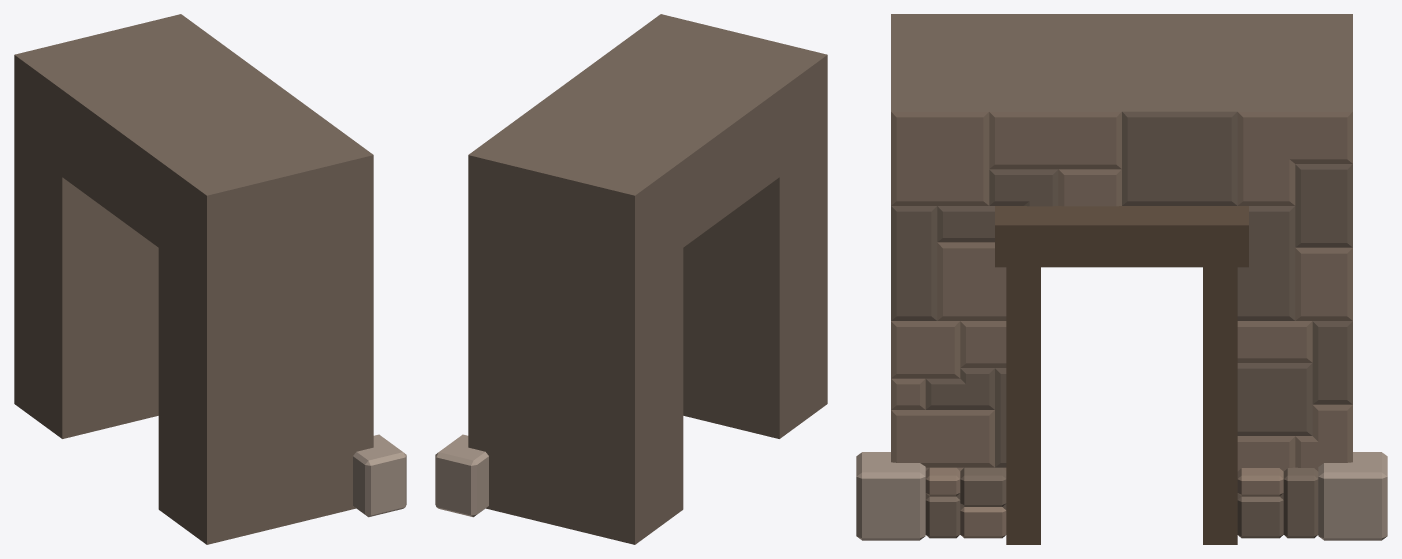
File: Stone_Doorway_Wide_Tall_1.obj
The picture shows the model from 3 angles, left to right: view 1: azimuth 30°, elevation 25°; view 2: azimuth 150°, elevation 25°; view 3: azimuth 270°, elevation 25°; orthographic projection. The views are drawn at different scales.
Visible parts, largest first — view 1: object6, object2; view 2: object6, object3; view 3: object6, object1, object5, object2, object3, object4.
Part boxes in pixels (bbox=[...]): object6: bbox=[14, 14, 373, 544]; object2: bbox=[353, 434, 406, 517]; object6: bbox=[468, 14, 827, 544]; object3: bbox=[435, 434, 488, 517]; object6: bbox=[891, 14, 1352, 471]; object1: bbox=[995, 206, 1248, 544]; object5: bbox=[925, 467, 1006, 538]; object2: bbox=[856, 452, 925, 540]; object3: bbox=[1318, 452, 1387, 540]; object4: bbox=[1237, 467, 1318, 538].
Size of the model in its own units: 1.2 by 2 by 2.3.
